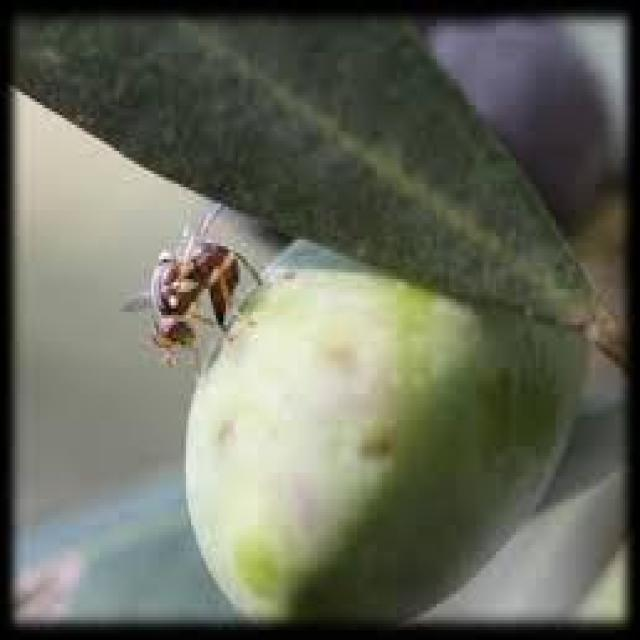Anthracnose: (105, 194, 278, 388)
